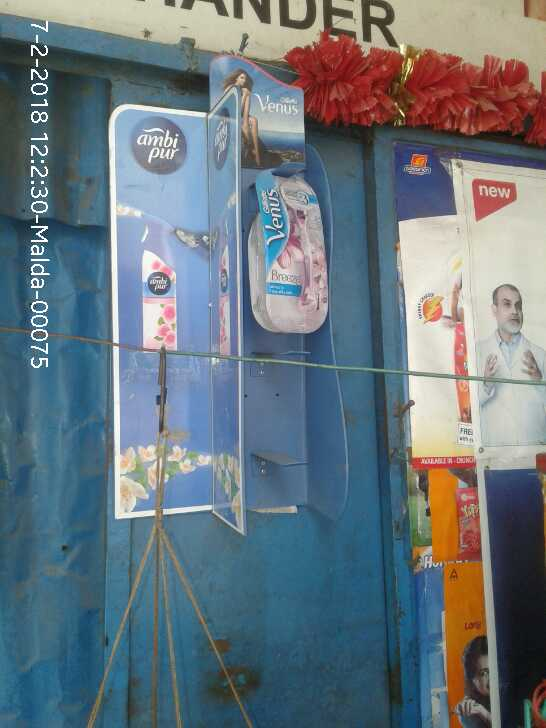venus: (249, 164, 344, 346)
